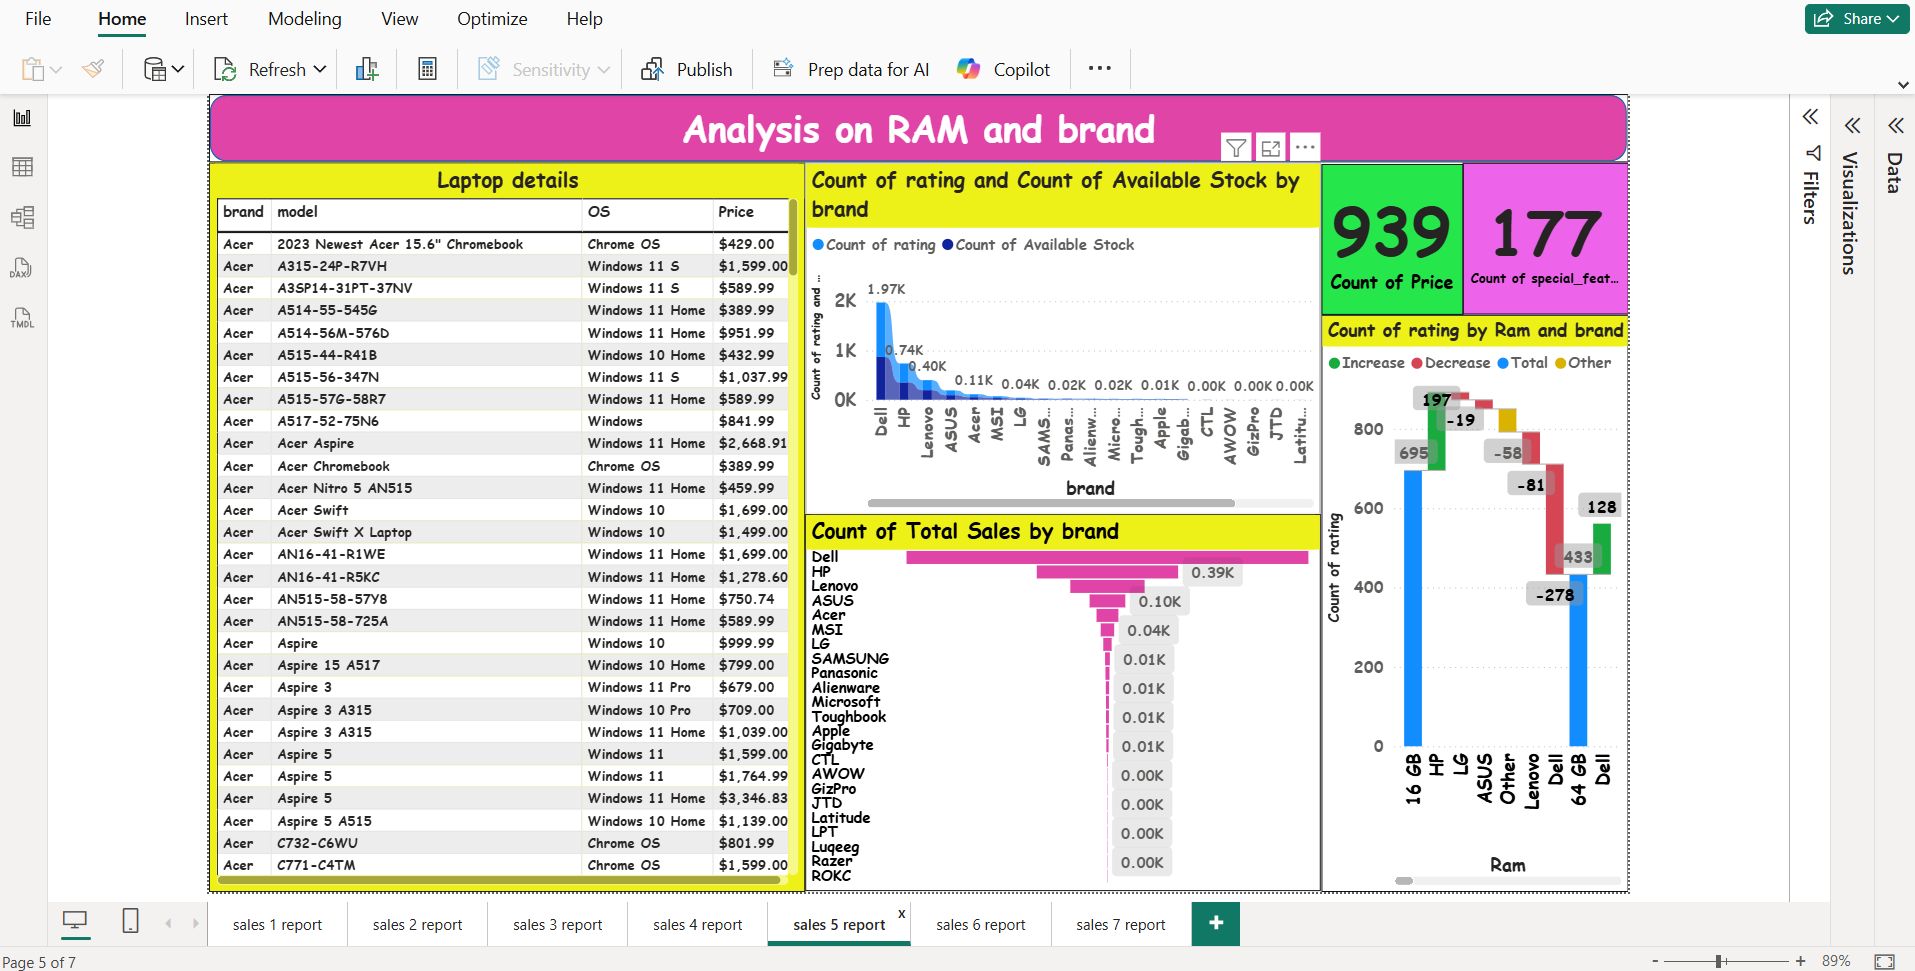

The page's visual inventory and layout, read from the dashboard file:
{"tool":"powerbi","page":{"name":"sales 5 report","canvas":[1280,720],"ordinal":4},"visuals":[{"type":"shape","box":[0,0,1279.7,61.8],"z":0},{"type":"tableEx","title":"Laptop details","fields":{"Values":["amazon_laptop sales report project.brand","amazon_laptop sales report project.model","amazon_laptop sales report project.OS","amazon_laptop sales report project.Price"]},"box":[0,61.8,537.7,657.3],"z":1000},{"type":"ribbonChart","fields":{"Y":["CountNonNull(amazon_laptop sales report project.rating)","CountNonNull(amazon_laptop sales report project.Available Stock)"],"Category":["amazon_laptop sales report project.brand"]},"box":[537.7,61.8,465.1,317.2],"z":2000},{"type":"funnel","fields":{"Category":["amazon_laptop sales report project.brand","amazon_laptop sales report project.Ram"],"Y":["CountNonNull(amazon_laptop sales report project.Total Sales)"]},"box":[537.7,379.1,465.1,340.1],"z":3000},{"type":"card","fields":{"Values":["Count(amazon_laptop sales report project.Price)"]},"box":[1002.8,63.2,127.7,135.8],"z":4000},{"type":"card","fields":{"Values":["Count(amazon_laptop sales report project.special_features)"]},"box":[1130.5,61.8,149.2,137.1],"z":5000},{"type":"waterfallChart","fields":{"Y":["CountNonNull(amazon_laptop sales report project.rating)"],"Category":["amazon_laptop sales report project.Ram"],"Breakdown":["amazon_laptop sales report project.brand"]},"box":[1002.8,198.9,276.9,520.2],"z":6000}]}

Visuals, with their boxes on the page's 1280x720 design canvas (x1, y1, x2, y2). These are canvas units, not pixel positions in the 1915x971 screenshot, which may show the page scaled, cropped or inside an application window:
shape: box=[0, 0, 1280, 62]
"Laptop details" tableEx: box=[0, 62, 538, 719]
ribbonChart - CountNonNull(amazon_laptop sales report project.rating) x CountNonNull(amazon_laptop sales report project.Available Stock): box=[538, 62, 1003, 379]
funnel - amazon_laptop sales report project.brand x amazon_laptop sales report project.Ram: box=[538, 379, 1003, 719]
card - Count(amazon_laptop sales report project.Price): box=[1003, 63, 1130, 199]
card - Count(amazon_laptop sales report project.special_features): box=[1130, 62, 1280, 199]
waterfallChart - CountNonNull(amazon_laptop sales report project.rating) x amazon_laptop sales report project.Ram: box=[1003, 199, 1280, 719]
